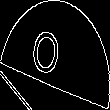O_S: (37, 25, 73, 85)
